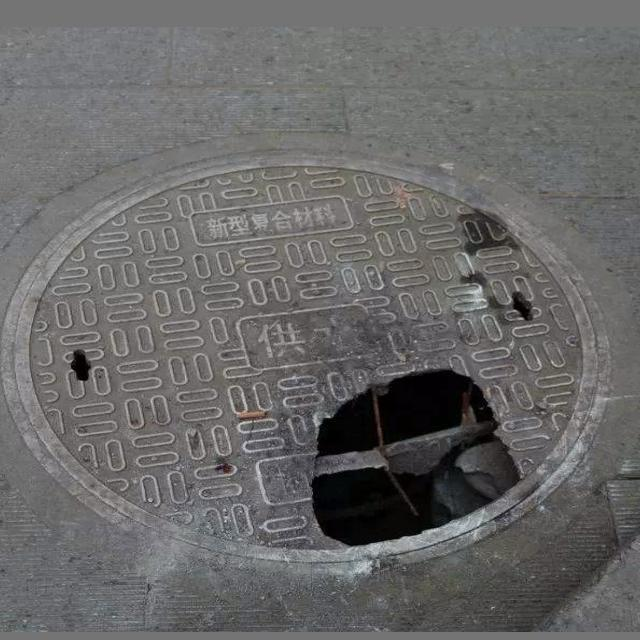broke: (0, 160, 598, 561)
